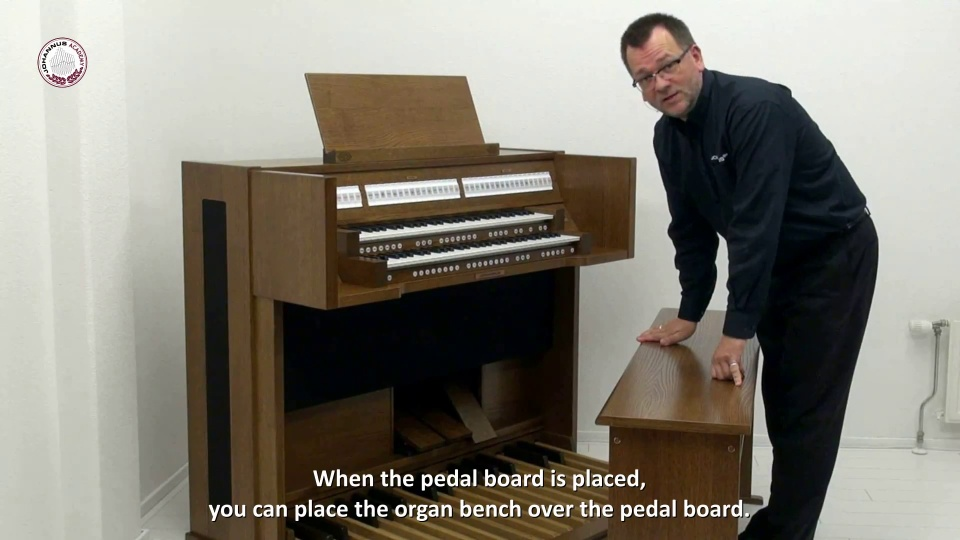person: (615, 13, 876, 531)
